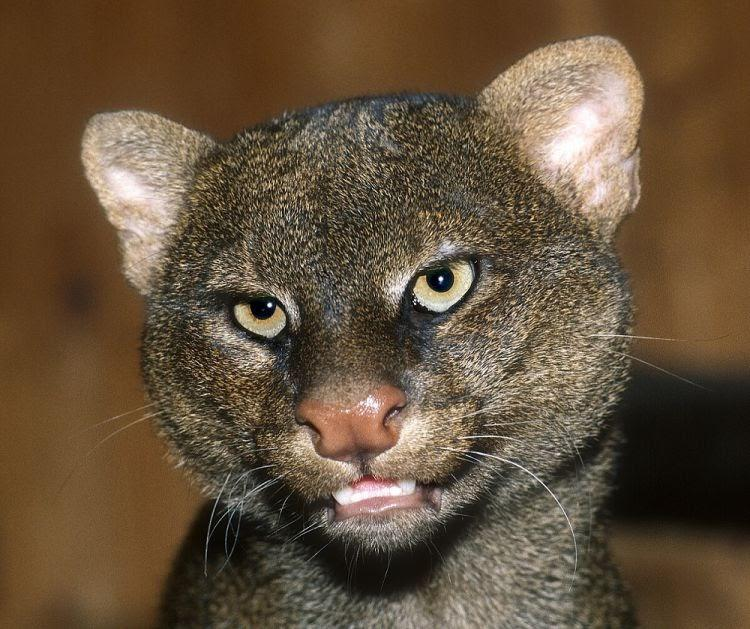Jaguarundi: (64, 30, 676, 616)
